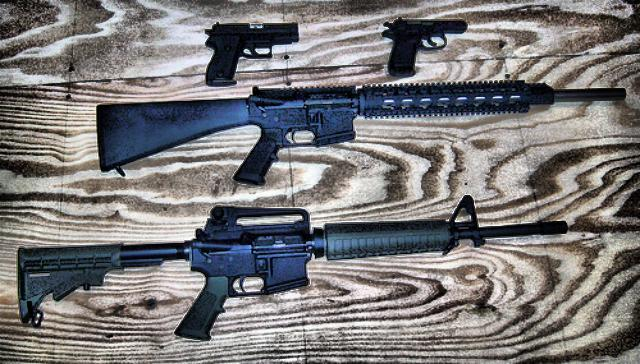pistol: (199, 20, 303, 84), (384, 14, 468, 78)
